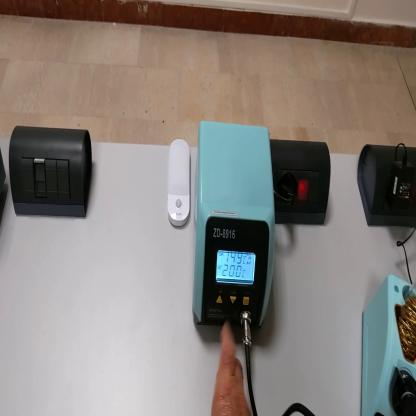hand: (213, 322, 251, 416)
oscilloscope: (2, 142, 7, 206)
socket: (272, 132, 334, 230), (357, 138, 416, 228)
welder base: (364, 267, 416, 416)
welder probe tip: (400, 388, 416, 416)
